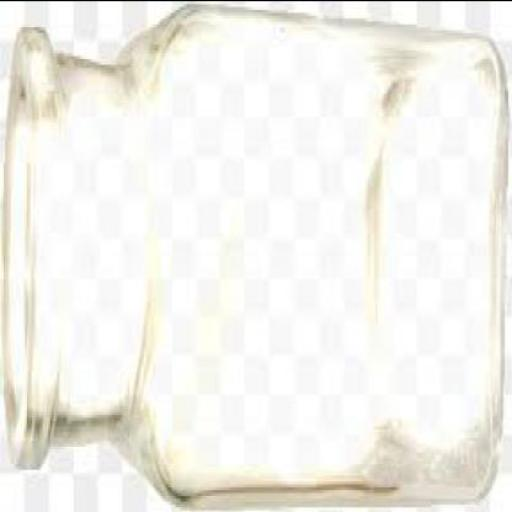glass: (2, 0, 510, 510)
